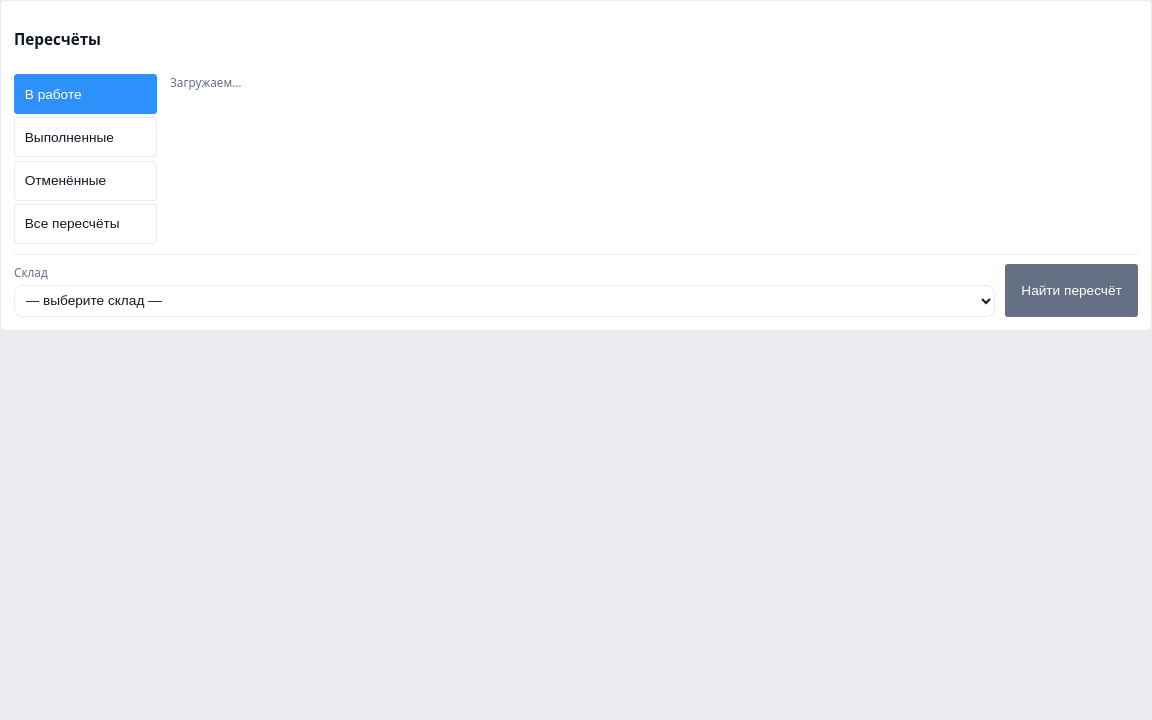
Test case: сведение расхождений › номер в клетке «Детали», столбец «Состояние» на месте
This screenshot has width=1152, height=720.
What coordinates should you click on to do the following:
click the button "Выполненные"
I would click on:
 (86, 137)
Its box is left=14, top=117, right=157, bottom=157.
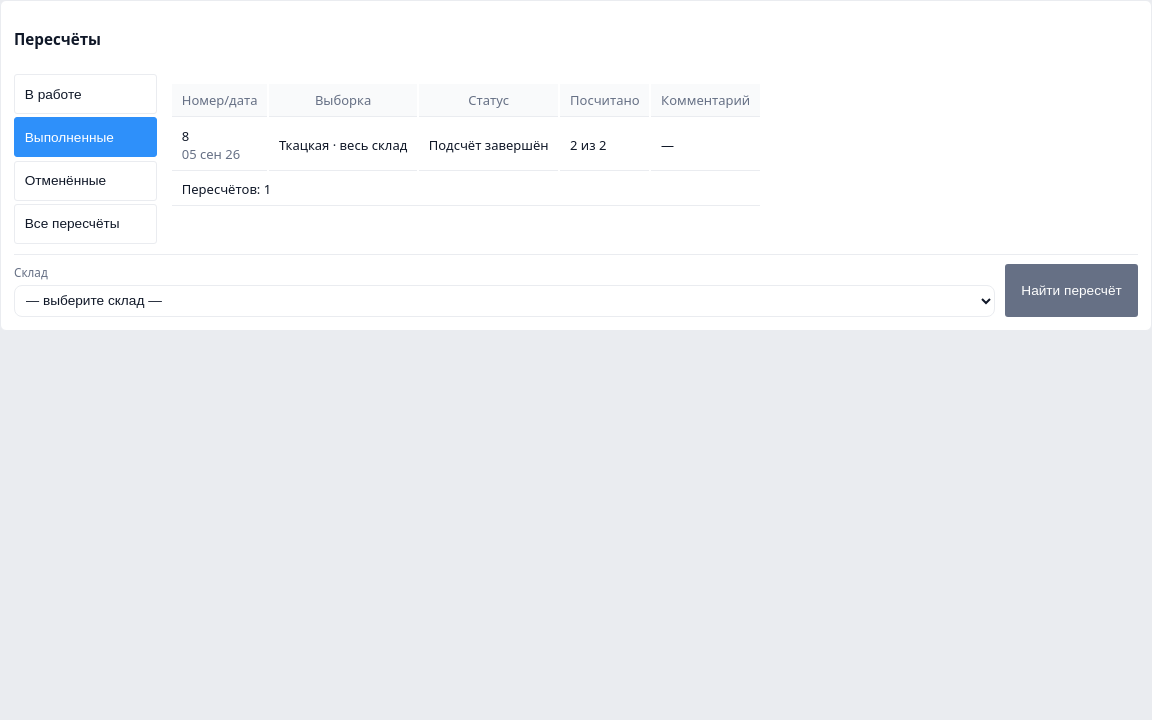
What coordinates should you click on to do the following:
click the text "Подсчёт завершён"
I would click on:
 (489, 145)
Its box is left=419, top=119, right=558, bottom=171.
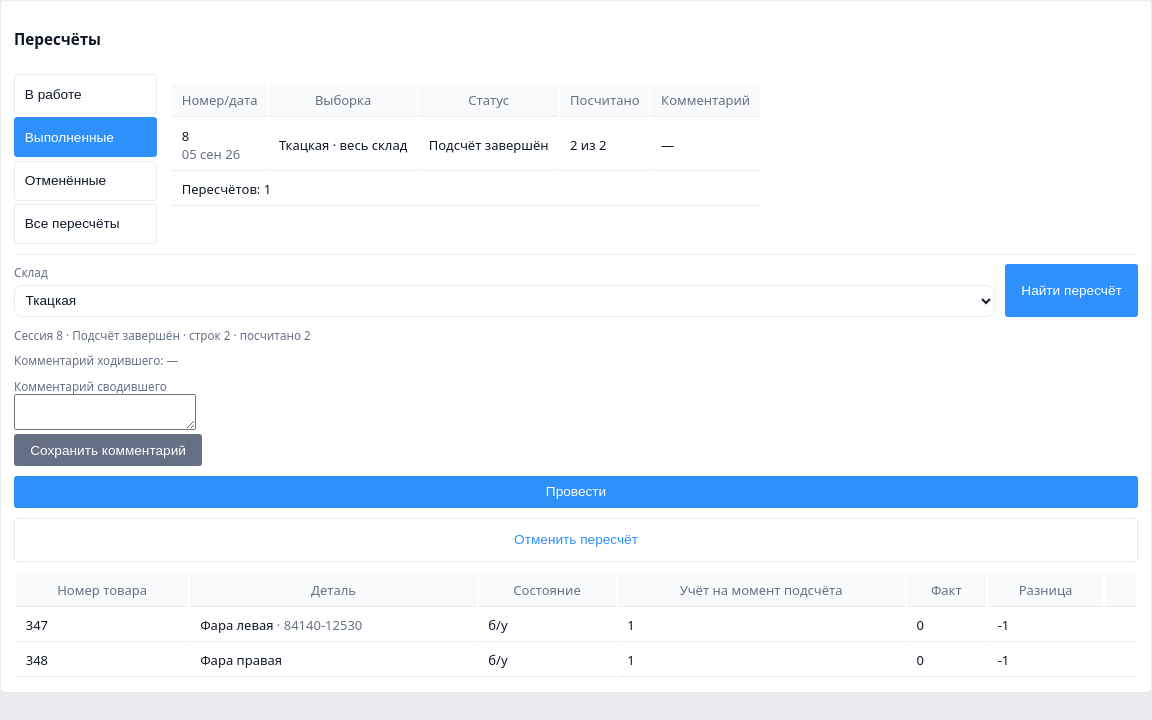
Now the column heading "Состояние" is shown, box left=478, top=574, right=616, bottom=607
Now the cell "Фара правая" is shown, box left=190, top=644, right=477, bottom=677
Now the cell "б/у" in the row of "347" is shown, box left=488, top=616, right=508, bottom=634
